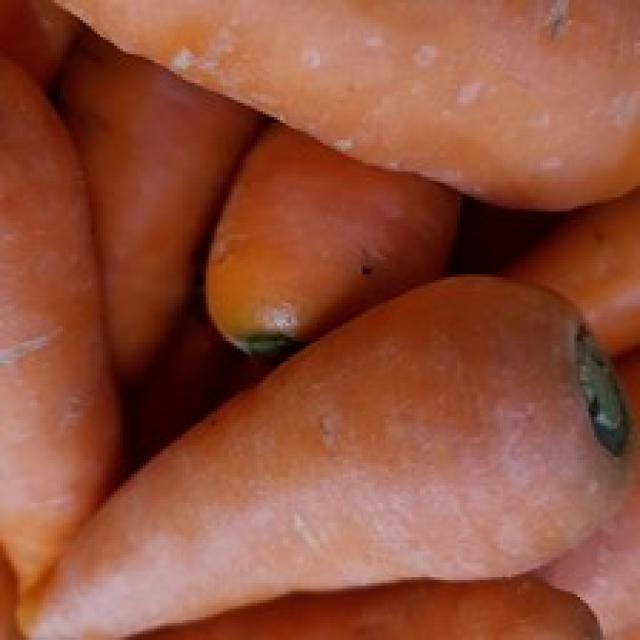Fresh_Carrot: (18, 282, 637, 640), (63, 0, 640, 200), (0, 46, 125, 606), (210, 116, 462, 359)
